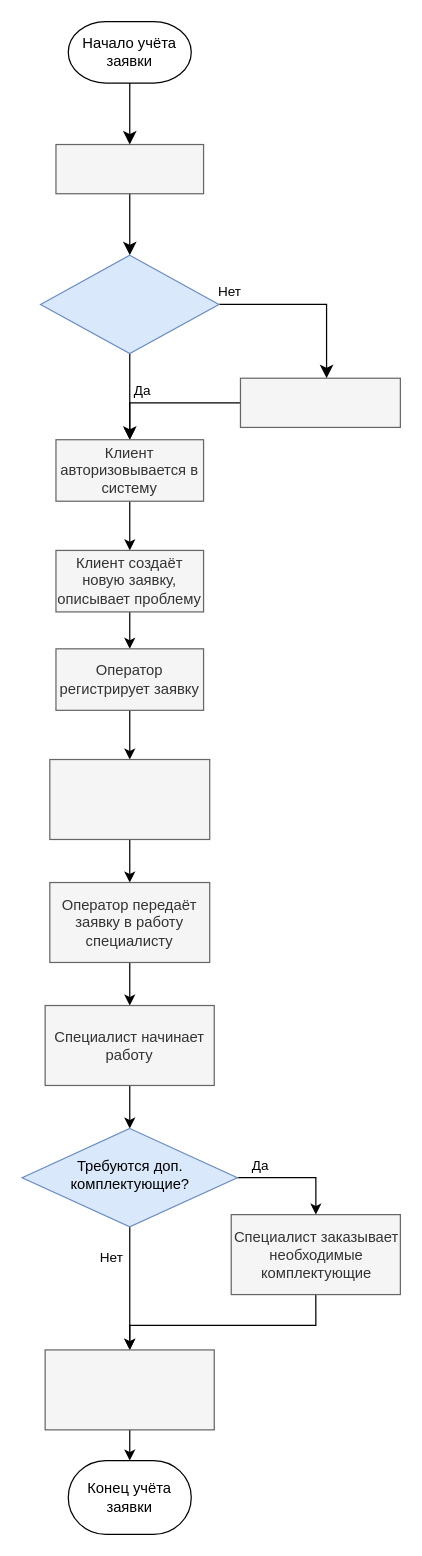
Image size: 422x1556. Some labels were removed from this diagram. Here are the shapes that lost their labels. From the top down, the centre of each, then its label:
At pixel 129 168: "Клиент хочет оставить заявку".
At pixel 129 304: "Клиент зарегистрирован?".
At pixel 319 402: "Админстратор регистрирует клиента".
At pixel 129 798: "Оператор обрабатывает заявку и назначает специалист".
At pixel 129 1389: "Специалист завершает работу".
